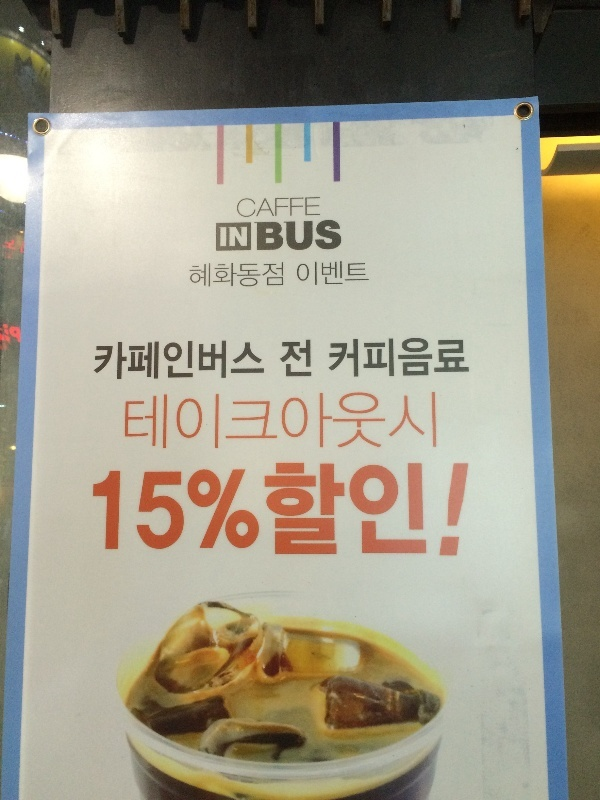text: (273, 458, 288, 566), (289, 458, 304, 566), (305, 458, 320, 566), (321, 458, 336, 566), (337, 458, 352, 566), (353, 458, 368, 566), (369, 458, 384, 566), (385, 458, 400, 566), (401, 458, 416, 566), (417, 458, 432, 566), (433, 458, 448, 566), (449, 458, 464, 566), (97, 469, 112, 558), (113, 469, 128, 558), (129, 469, 144, 558), (145, 469, 160, 558), (161, 469, 176, 558), (177, 469, 192, 558), (193, 469, 208, 558), (209, 469, 224, 558), (225, 469, 240, 558), (241, 469, 256, 558), (129, 388, 144, 453), (145, 388, 160, 453), (161, 388, 176, 453), (177, 388, 192, 453), (193, 388, 208, 453), (209, 388, 224, 453), (225, 388, 240, 453), (241, 388, 256, 453), (257, 388, 272, 453), (273, 388, 288, 453), (289, 388, 304, 453), (305, 388, 320, 453), (321, 388, 336, 453), (337, 388, 352, 453), (353, 388, 368, 453), (369, 388, 384, 453), (385, 388, 400, 453), (401, 388, 416, 453), (417, 388, 432, 453), (465, 458, 474, 566), (264, 458, 272, 566), (337, 336, 352, 381), (353, 336, 368, 381), (369, 336, 384, 381), (385, 336, 400, 381), (401, 336, 416, 381), (417, 336, 432, 381), (433, 336, 448, 381), (449, 336, 464, 381), (97, 340, 112, 384), (113, 340, 128, 384), (129, 340, 144, 384), (145, 340, 160, 384), (161, 340, 176, 384), (177, 340, 192, 384), (193, 340, 208, 384), (209, 340, 224, 384), (225, 340, 240, 384), (241, 340, 256, 384), (289, 338, 304, 380), (257, 219, 272, 253), (273, 219, 288, 253), (289, 219, 304, 253), (305, 219, 320, 253), (321, 219, 336, 253), (257, 340, 268, 384), (193, 259, 208, 289), (209, 259, 224, 289), (225, 259, 240, 289), (241, 259, 256, 289), (257, 259, 272, 289), (305, 259, 320, 289), (321, 259, 336, 289), (337, 259, 352, 289), (353, 259, 368, 289), (433, 388, 439, 453), (225, 224, 240, 250), (305, 195, 321, 219), (273, 259, 285, 289), (241, 195, 256, 219), (257, 195, 272, 219), (273, 195, 288, 219), (289, 195, 304, 219), (257, 469, 261, 558), (305, 338, 313, 380), (281, 338, 288, 380), (330, 336, 336, 381), (465, 336, 471, 381), (93, 469, 96, 558), (124, 388, 128, 453), (1, 324, 16, 341), (4, 236, 16, 256), (297, 259, 304, 289), (241, 224, 249, 250), (337, 219, 343, 253), (17, 236, 25, 256), (219, 224, 224, 250), (9, 325, 16, 343), (189, 259, 192, 289), (237, 195, 240, 219), (17, 325, 21, 343), (369, 259, 371, 289)
